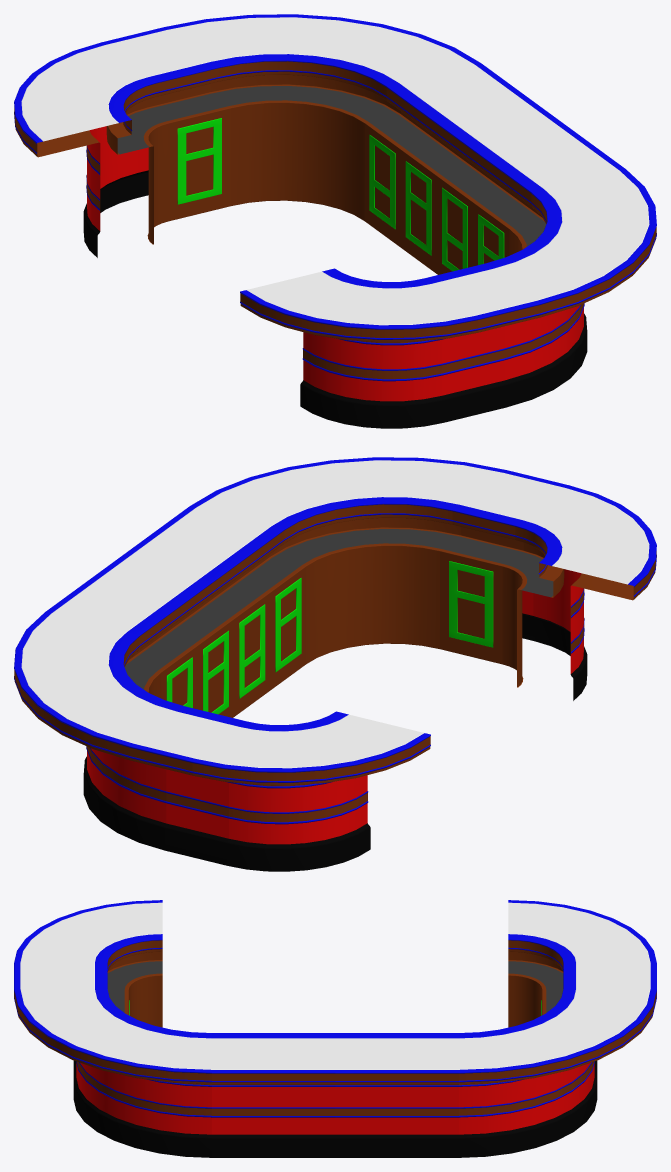
3 views of the same model, one above another, from view 1: azimuth 30°, elevation 25°; view 2: azimuth 150°, elevation 25°; view 3: azimuth 270°, elevation 25° (orthographic). The views are drawn at different scales.
Parts seen in each view (by area): view 1: curvebar (×4), curvetightbar1 (×5), curvebar1 (×5), straightbar (×5), curvetightbar (×6), straightbar1 (×5), smallbar1 (×5), smallbar (×5); view 2: curvebar1 (×4), curvetightbar (×5), curvebar (×5), straightbar1 (×5), curvetightbar1 (×6), straightbar (×5), smallbar (×5), smallbar1 (×5); view 3: curvebar (×5), curvebar1 (×5), straightbar (×5), straightbar1 (×5), curvetightbar1 (×4), curvetightbar (×4), smallbar (×2), smallbar1 (×2).
Part boxes in pixels (x1=…): curvebar (×4): x1=164, y1=14, x2=480, y2=220; curvetightbar1 (×5): x1=240, y1=268, x2=478, y2=428; curvebar1 (×5): x1=487, y1=169, x2=656, y2=407; straightbar (×5): x1=364, y1=63, x2=552, y2=273; curvetightbar (×6): x1=14, y1=42, x2=168, y2=257; straightbar1 (×5): x1=437, y1=116, x2=625, y2=274; smallbar1 (×5): x1=101, y1=27, x2=230, y2=221; smallbar (×5): x1=424, y1=263, x2=541, y2=422; curvebar1 (×4): x1=190, y1=457, x2=506, y2=663; curvetightbar (×5): x1=192, y1=711, x2=430, y2=871; curvebar (×5): x1=14, y1=612, x2=183, y2=850; straightbar1 (×5): x1=118, y1=506, x2=306, y2=716; curvetightbar1 (×6): x1=502, y1=485, x2=656, y2=700; straightbar (×5): x1=45, y1=559, x2=233, y2=717; smallbar (×5): x1=440, y1=470, x2=569, y2=664; smallbar1 (×5): x1=129, y1=706, x2=246, y2=865; curvebar (×5): x1=459, y1=988, x2=656, y2=1157; curvebar1 (×5): x1=14, y1=988, x2=211, y2=1157; straightbar (×5): x1=335, y1=1033, x2=458, y2=1157; straightbar1 (×5): x1=212, y1=1033, x2=335, y2=1157; curvetightbar1 (×4): x1=14, y1=900, x2=162, y2=1027; curvetightbar (×4): x1=508, y1=900, x2=656, y2=1027; smallbar (×2): x1=14, y1=962, x2=107, y2=997; smallbar1 (×2): x1=563, y1=962, x2=656, y2=997.
Bounding box in the file's own units: 1.27 × 0.3805 × 2.
